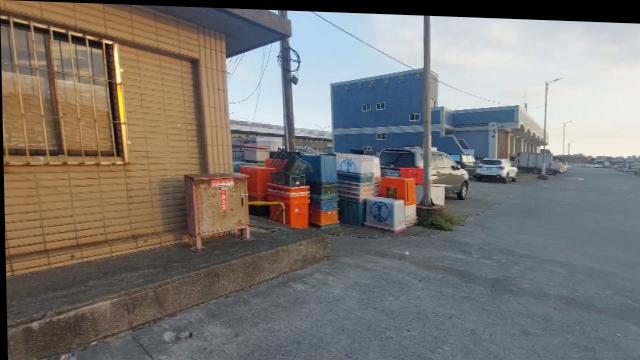pollute: (232, 134, 424, 230), (431, 180, 445, 203)
